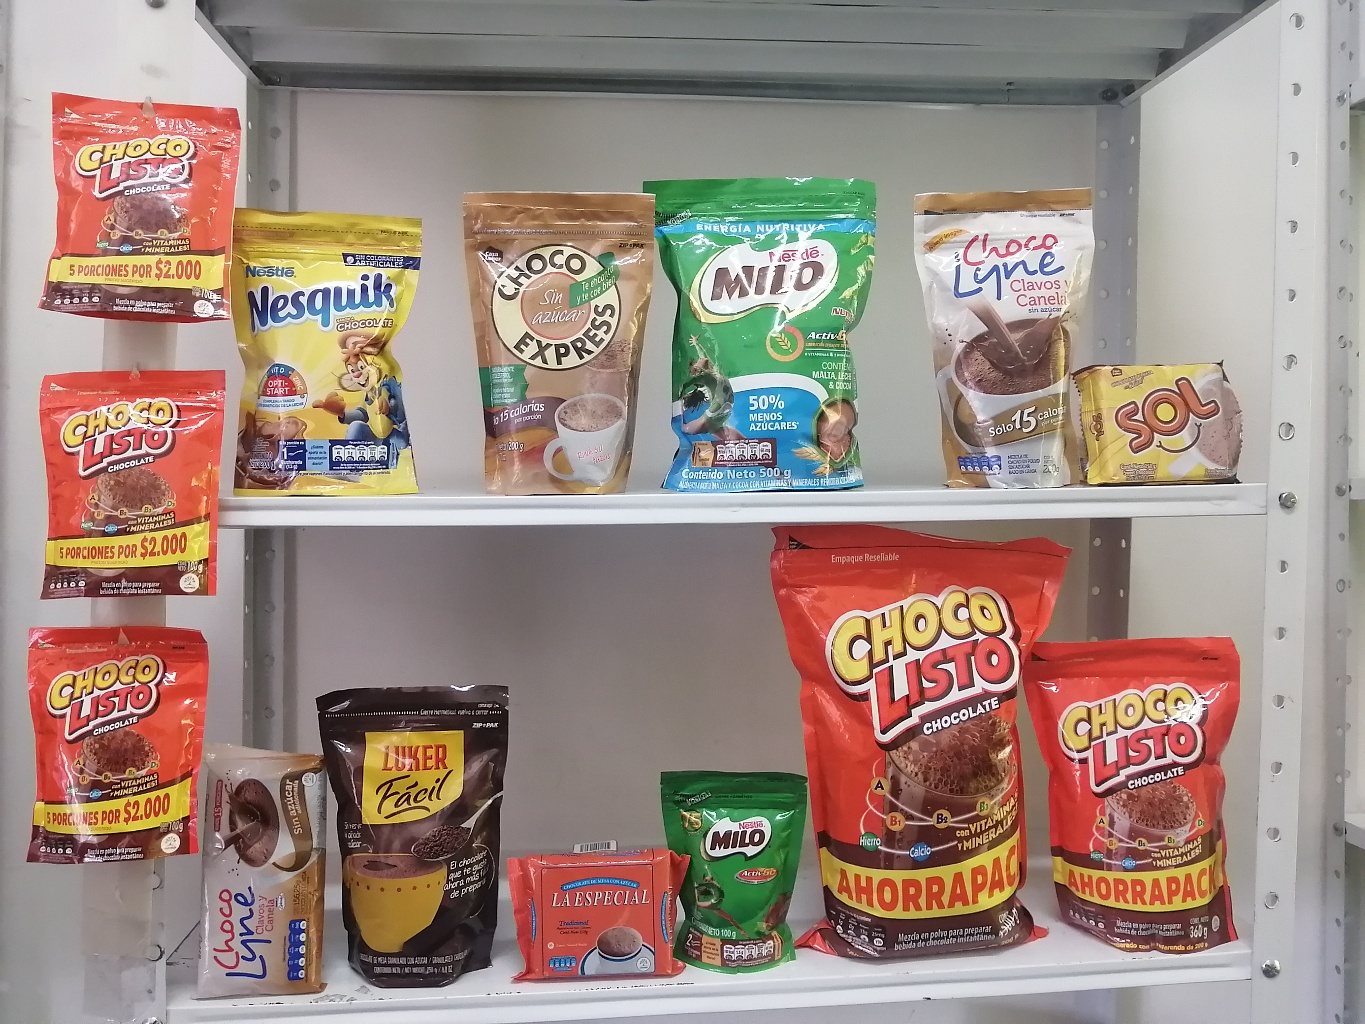COL0170103DYP1,500: (749, 522, 1095, 997)
COL0170103DYP36000: (1008, 606, 1253, 973)
COL0170203DYP10000: (642, 759, 822, 989)
COL0170205DYP50000: (640, 160, 899, 494)
COL0170303DYP20000: (202, 188, 447, 502)
